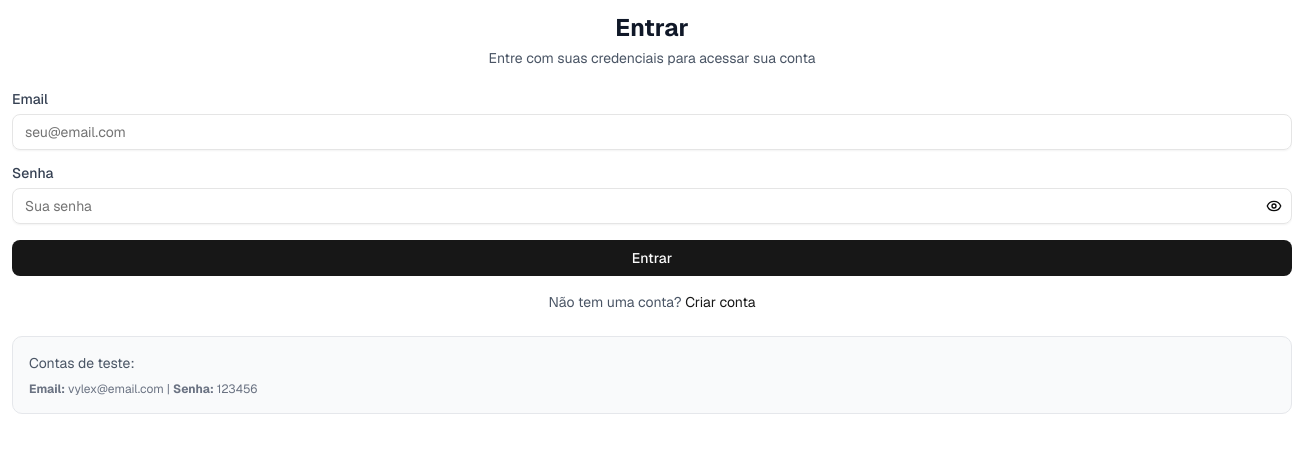
Test case: LoginForm › deve mostrar erro genérico quando não há erro específico
In the field labelled "Email": {"x": 652, "y": 132} [12, 114, 1292, 150], type "test@example.com"
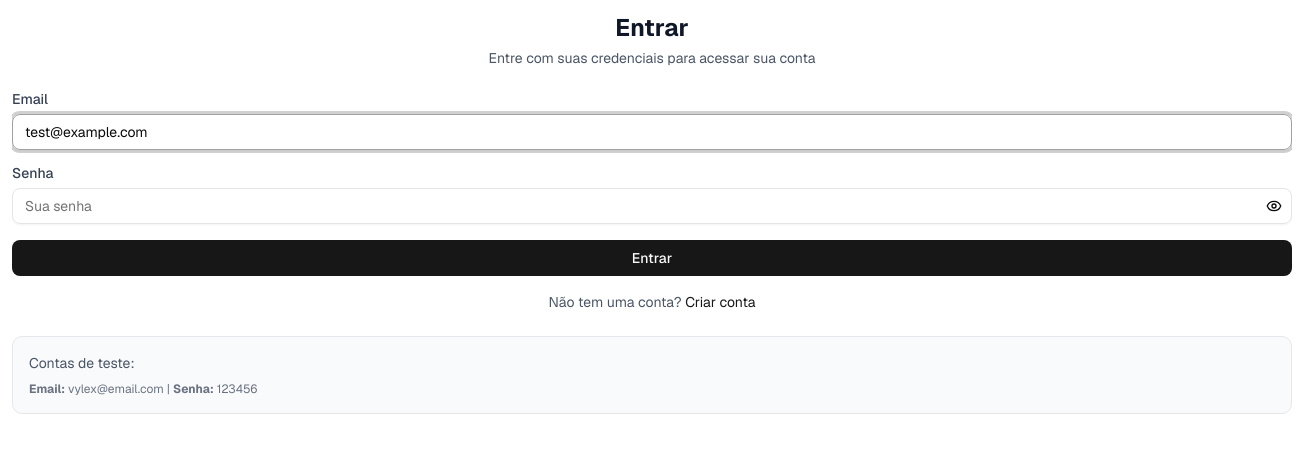
In the password field labelled "Senha": {"x": 652, "y": 206} [12, 188, 1292, 224], type "wrongpassword"
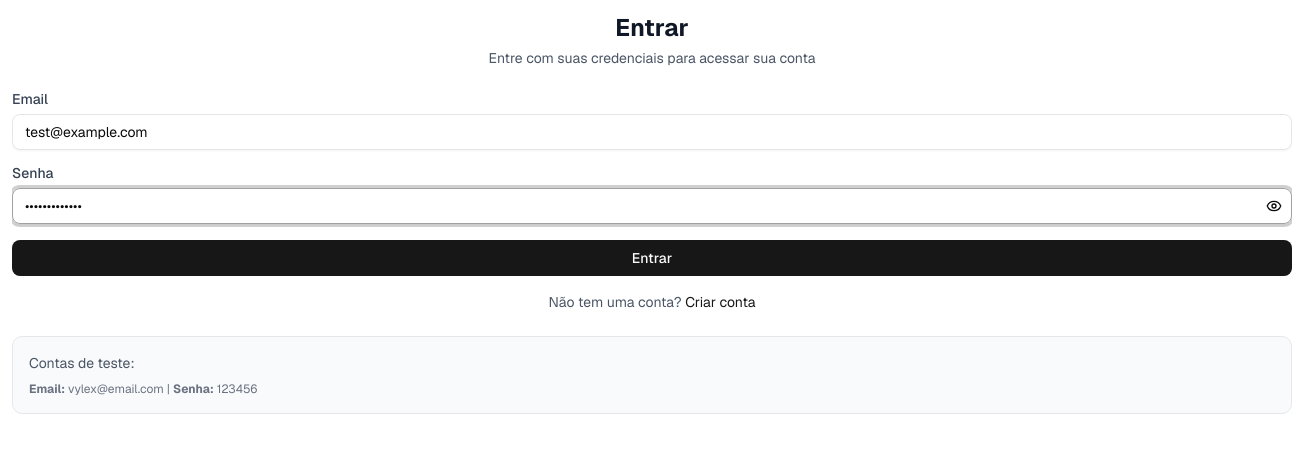
Click the button "Entrar": {"x": 652, "y": 258} [12, 240, 1292, 276]
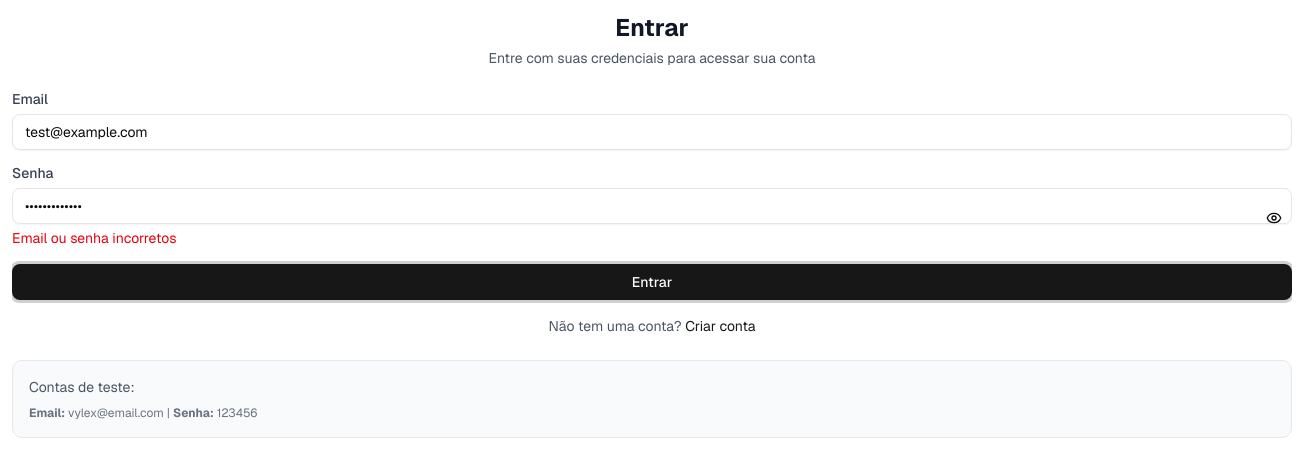
expect the text "Email ou senha incorretos" is shown: met, box [12, 229, 176, 247]
